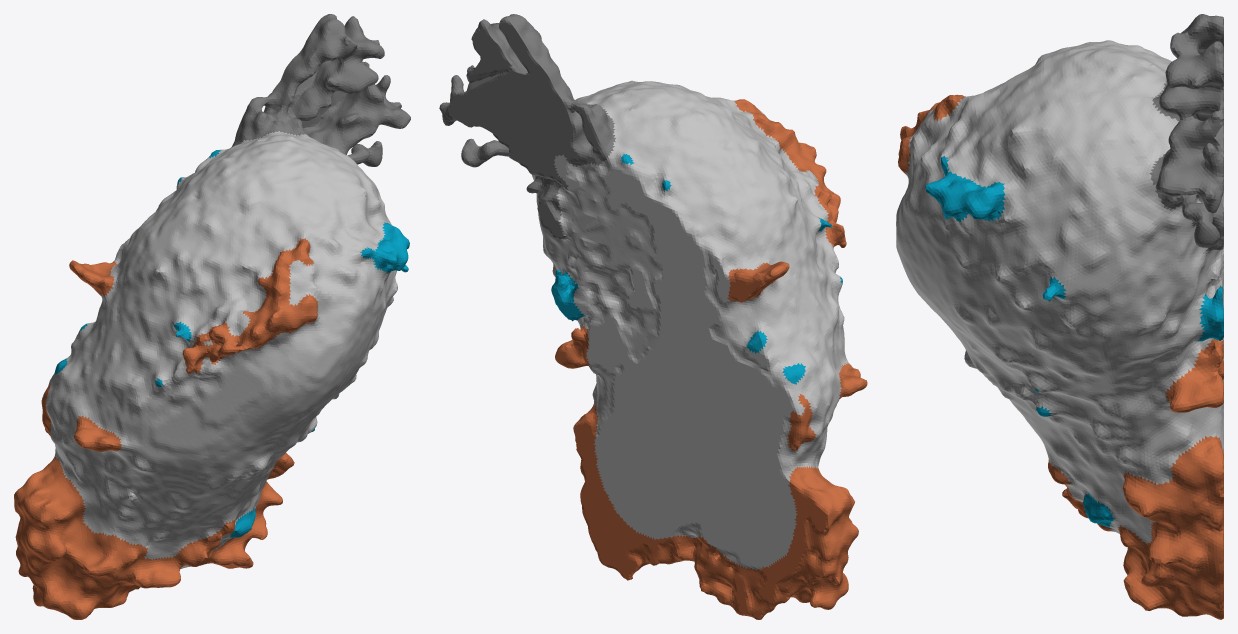
3 renders of one model, left to right at view 1: azimuth 30°, elevation 25°; view 2: azimuth 150°, elevation 25°; view 3: azimuth 270°, elevation 25°, orthographic. The views are drawn at different scales.
Bounding box in the file's own units: 130 × 168 × 72.73.
